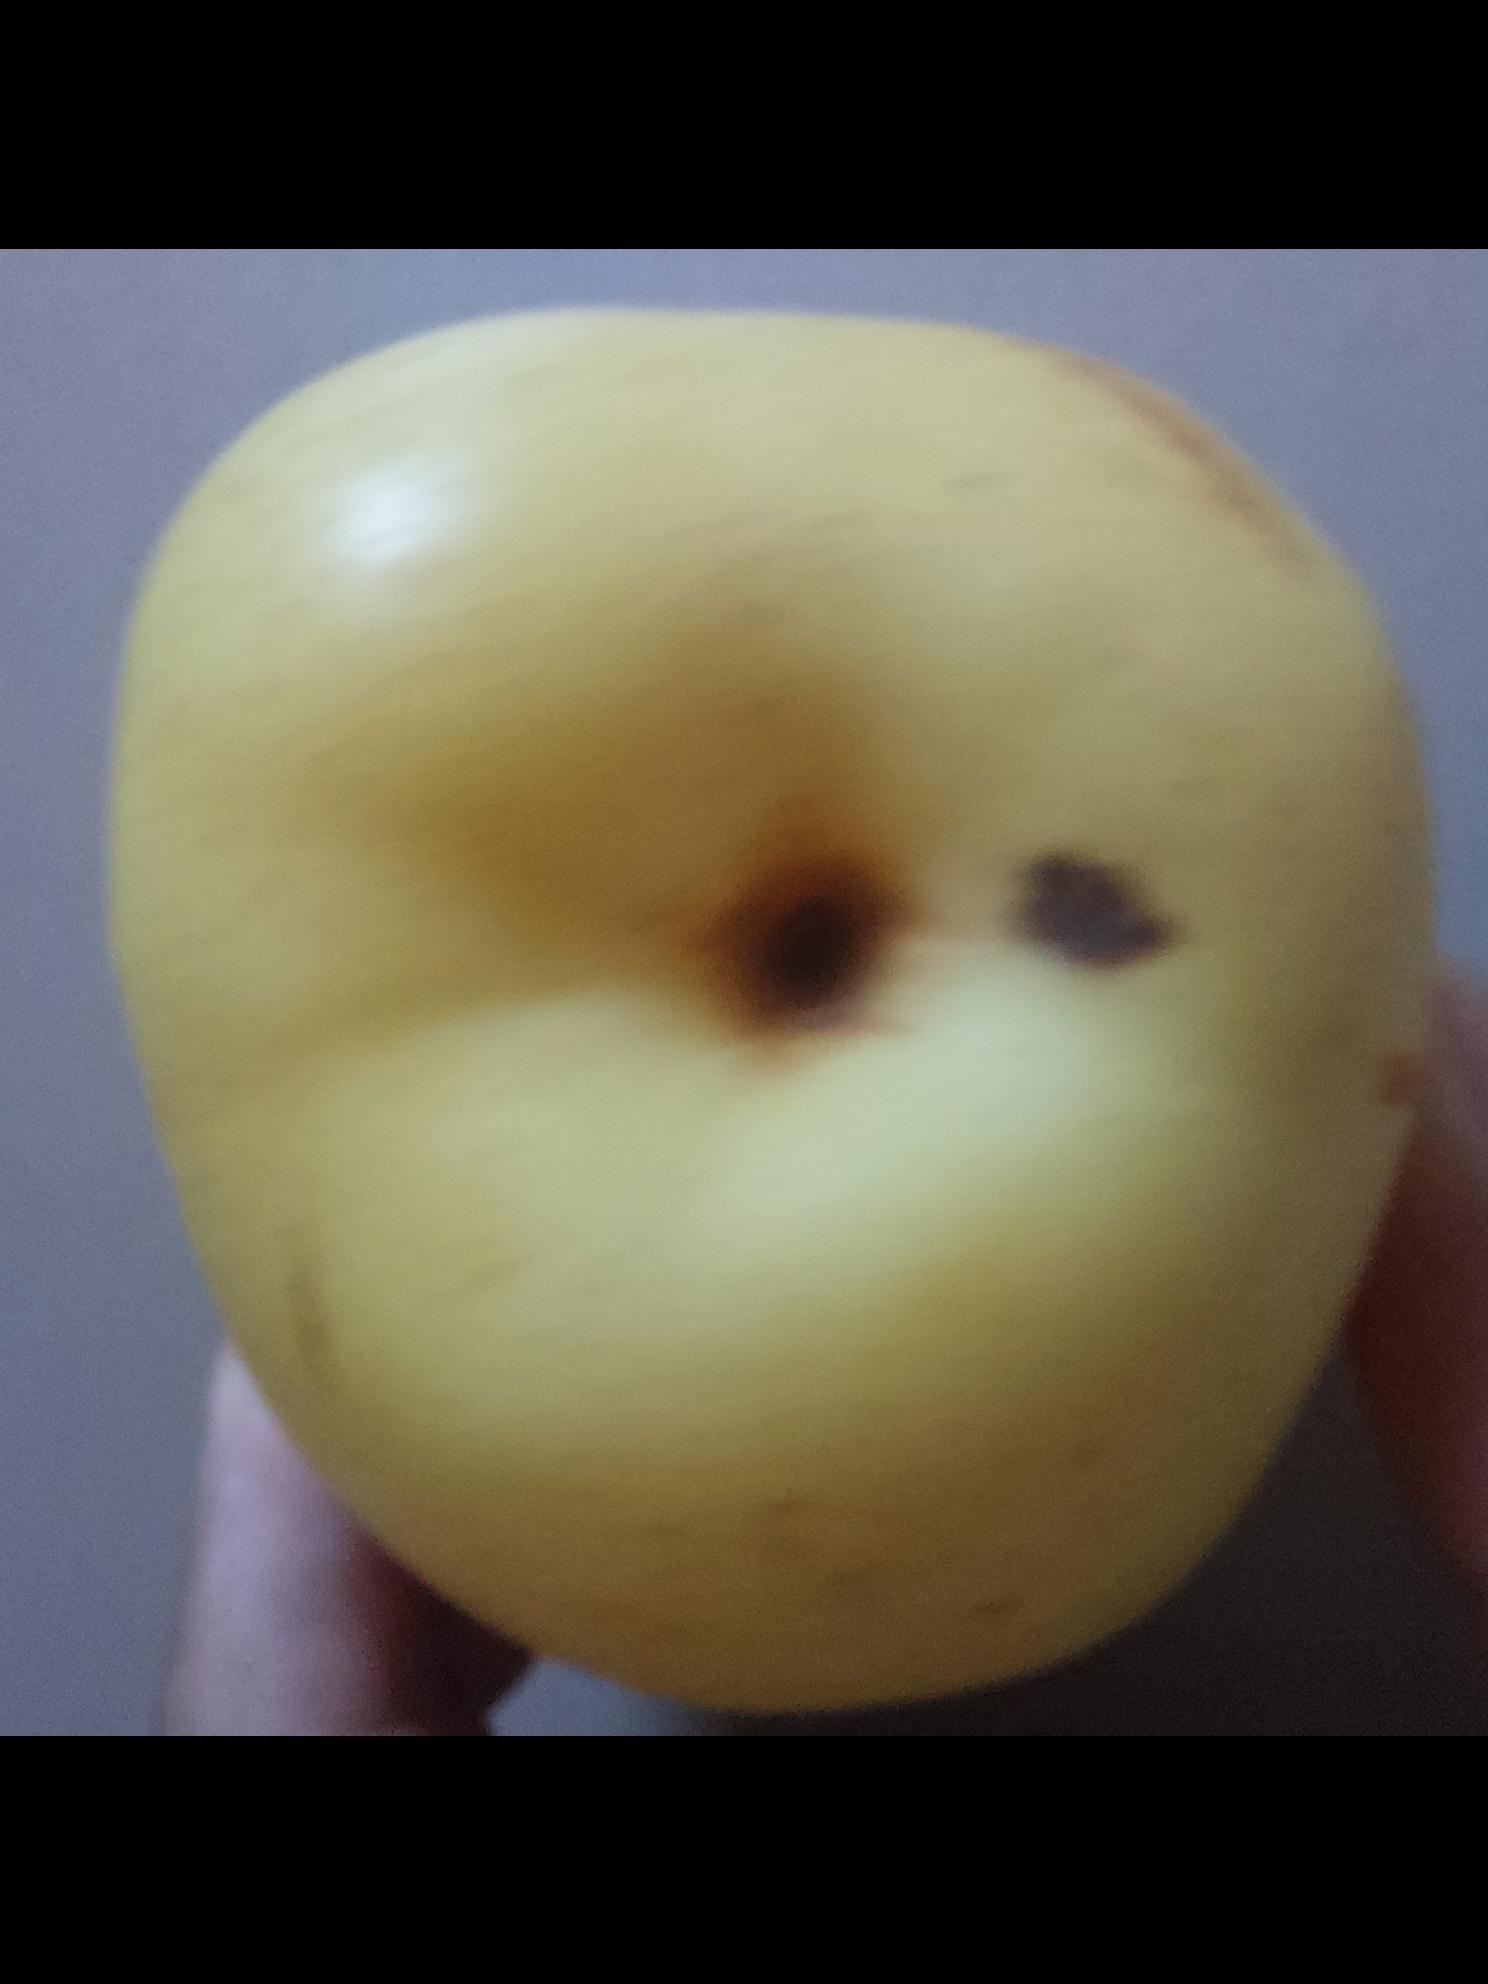Good Pear: (89, 295, 1447, 1715)
